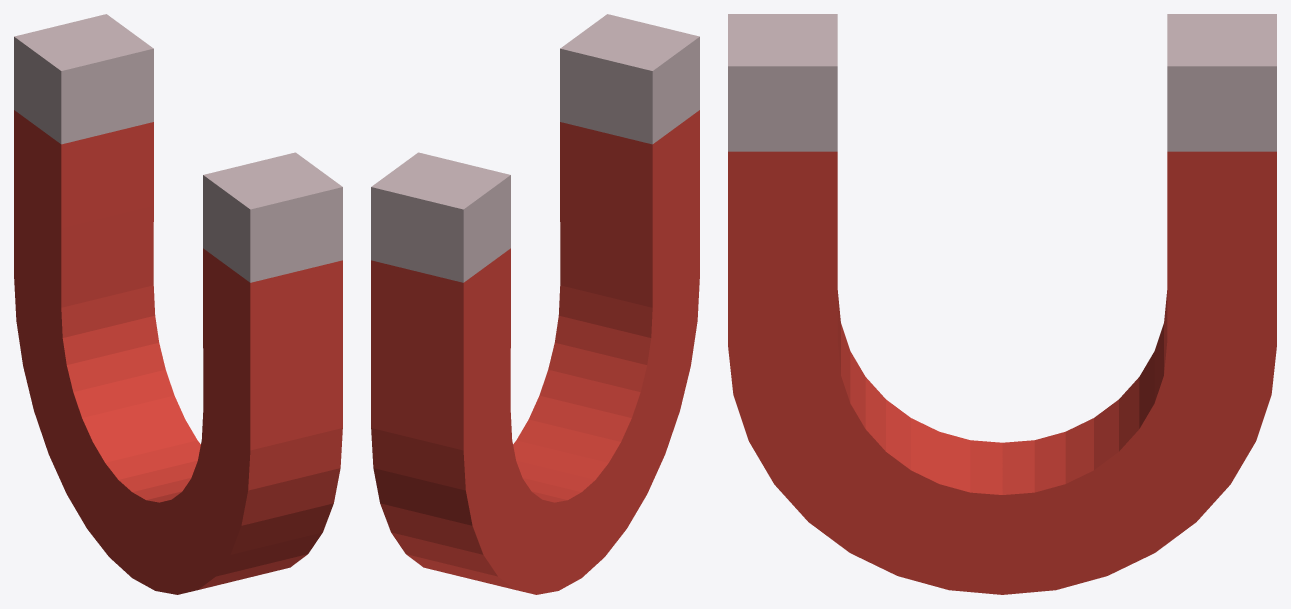
The model's file is imã projeto integrador.fbx.
3 views of the same model, side by side, from view 1: azimuth 30°, elevation 25°; view 2: azimuth 150°, elevation 25°; view 3: azimuth 270°, elevation 25° (orthographic). The views are drawn at different scales.
Parts seen in each view (by area): view 1: Circle; view 2: Circle; view 3: Circle.
Boxes of the visible parts, bbox=[...] form: Circle: bbox=[14, 14, 342, 594]; Circle: bbox=[371, 14, 699, 594]; Circle: bbox=[728, 14, 1276, 594].
Bounding box in the file's own units: 84.98 × 400 × 376.
